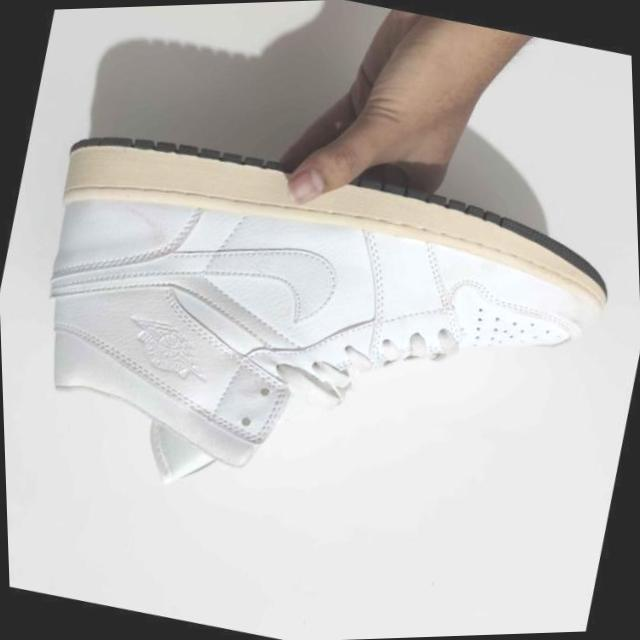nike_fake_jordan: (0, 104, 637, 581)
